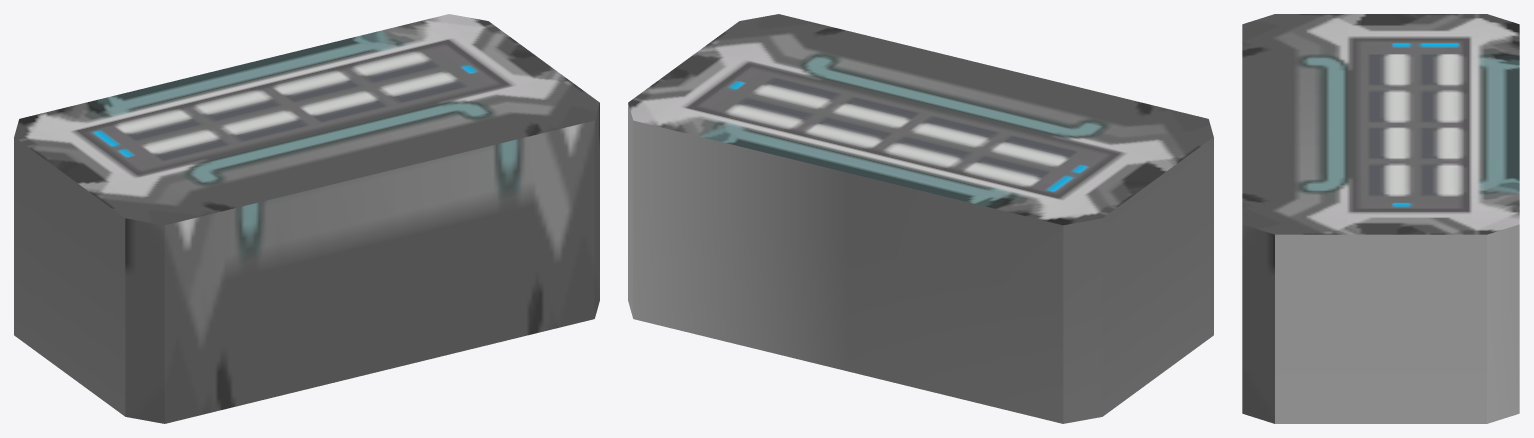
Rendered from Building_GeneBank.glb.
The picture shows the model from 3 angles, left to right: view 1: azimuth 30°, elevation 25°; view 2: azimuth 150°, elevation 25°; view 3: azimuth 270°, elevation 25°; orthographic projection. The views are drawn at different scales.
Parts seen in each view (by area): view 1: GeneBank; view 2: GeneBank; view 3: GeneBank.
Part boxes in pixels (<box>): GeneBank: <box>14,14,599,423</box>; GeneBank: <box>628,14,1213,423</box>; GeneBank: <box>1242,14,1519,423</box>.
Bounding box in the file's own units: 2 × 0.8 × 1.06.
Materials: 1 (1 with a texture image).
